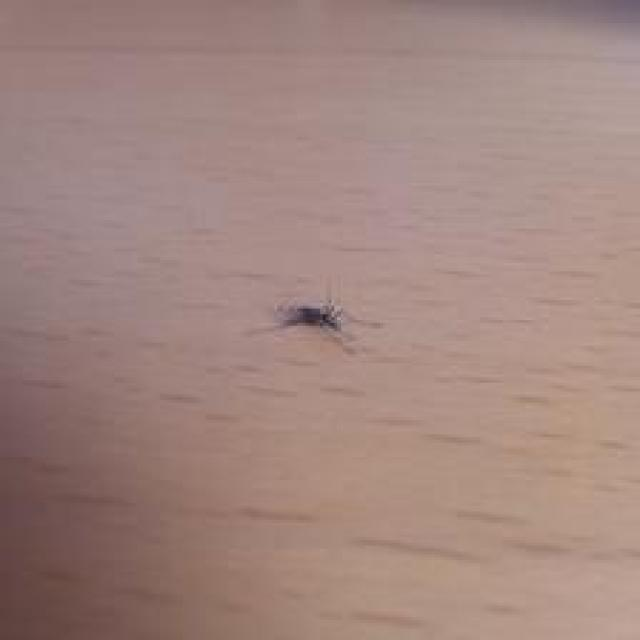Aedes albopictus: (277, 300, 343, 331)
